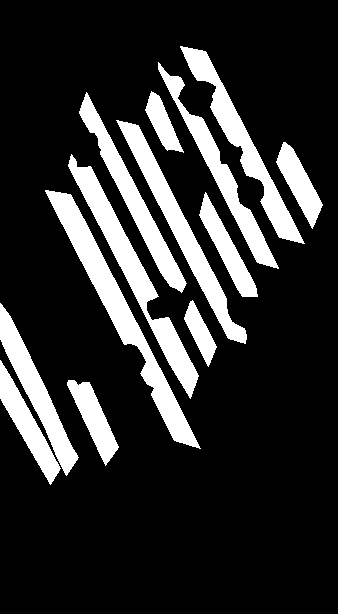parkingspot: (45, 190, 200, 448), (68, 154, 198, 398), (116, 120, 246, 343), (158, 62, 278, 268), (180, 46, 304, 243), (79, 92, 186, 292), (0, 303, 78, 475), (0, 360, 60, 484), (199, 192, 257, 296), (67, 380, 118, 465), (276, 142, 322, 228), (145, 91, 183, 152), (184, 300, 216, 366)
